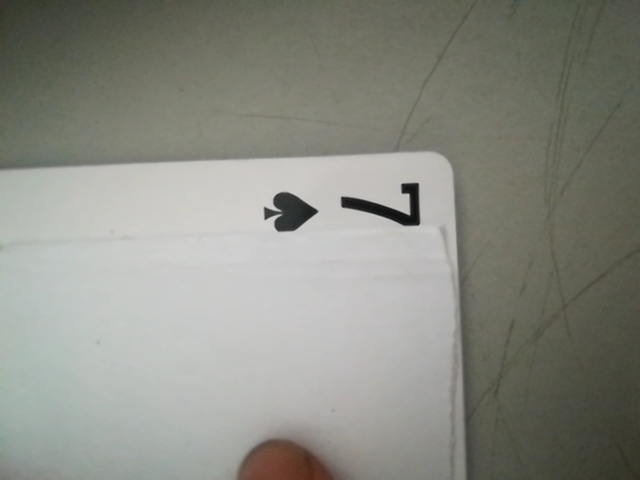ht 7: (247, 168, 442, 237)
